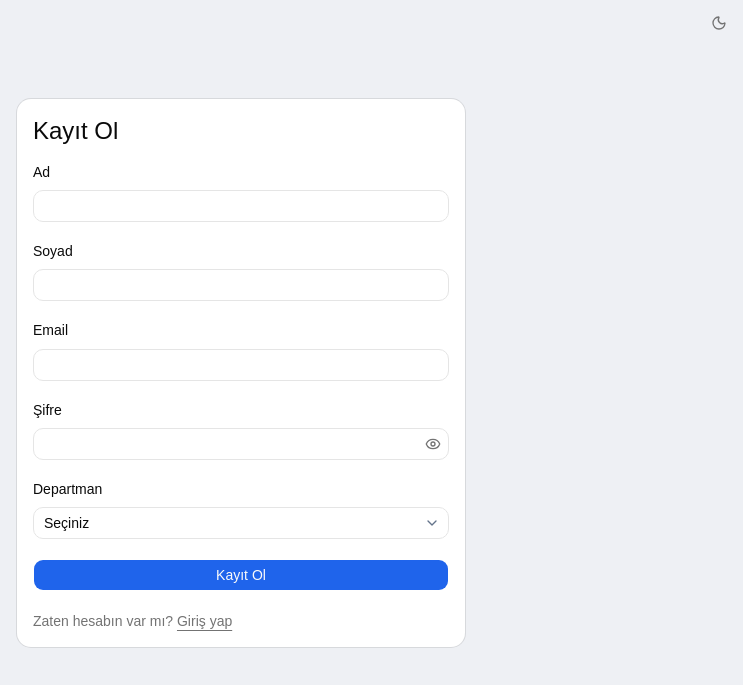
Test: Register page › shows the generic connection error on a network failure without crashing
Check: the dropdown labelled "Departman" is shown, box top-left (33, 507), bottom-right (449, 539)
Type "Taha" into the field labelled "Ad" at (241, 206), box top-left (33, 190), bottom-right (449, 222)
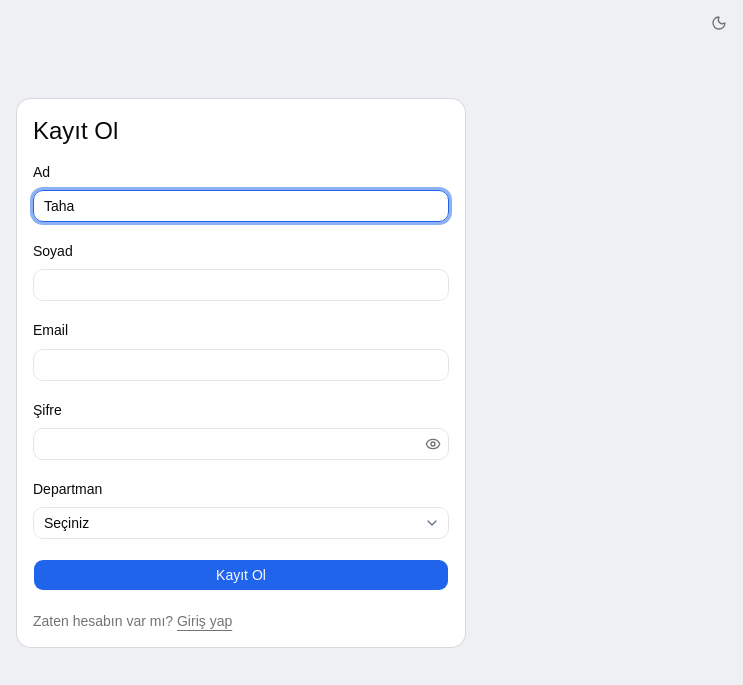
Type "Bugra" into the field labelled "Soyad" at (241, 285), box top-left (33, 269), bottom-right (449, 301)
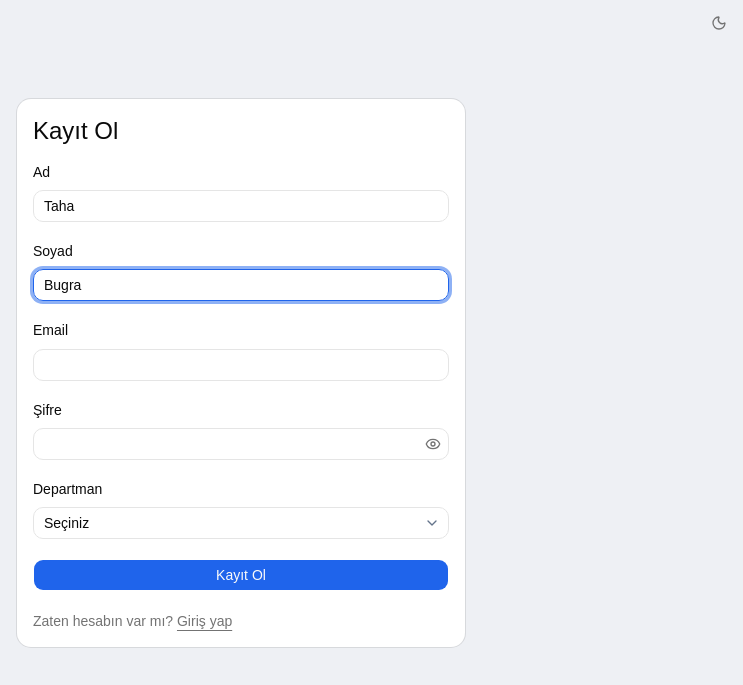
Type "taha@gmail.com" into the field labelled "Email" at (241, 365), box top-left (33, 349), bottom-right (449, 381)
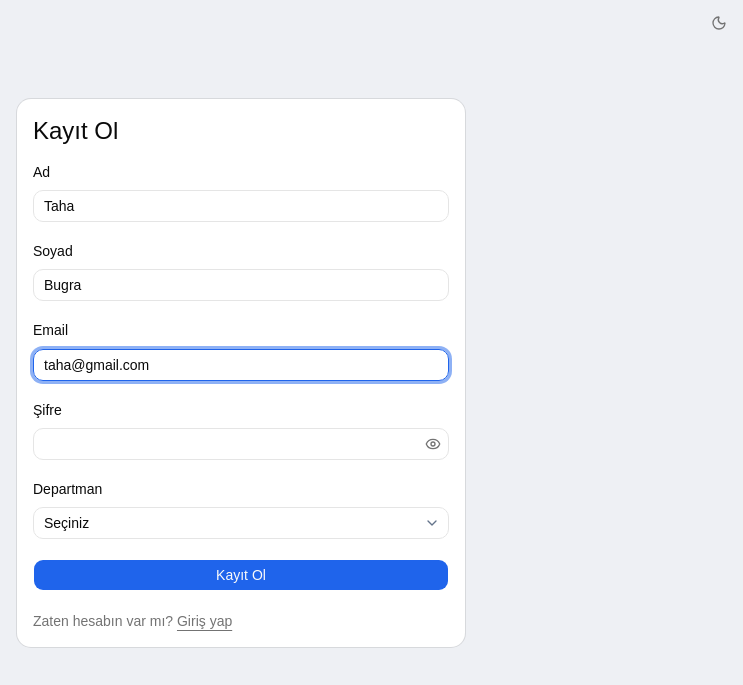
Type "sifre1234test" into the password field labelled "Şifre" at (241, 444), box top-left (33, 428), bottom-right (449, 460)
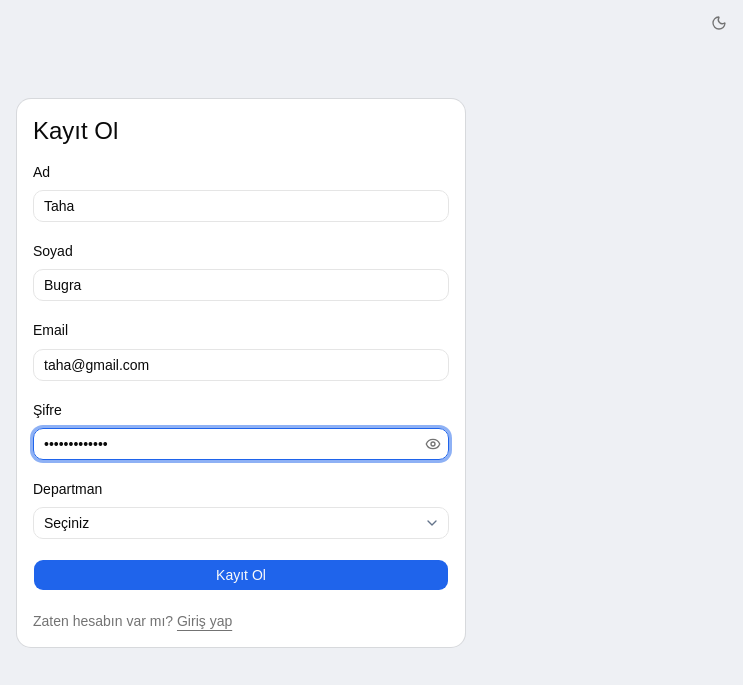
Select "IT" in the dropdown labelled "Departman" at (241, 523), box top-left (33, 507), bottom-right (449, 539)
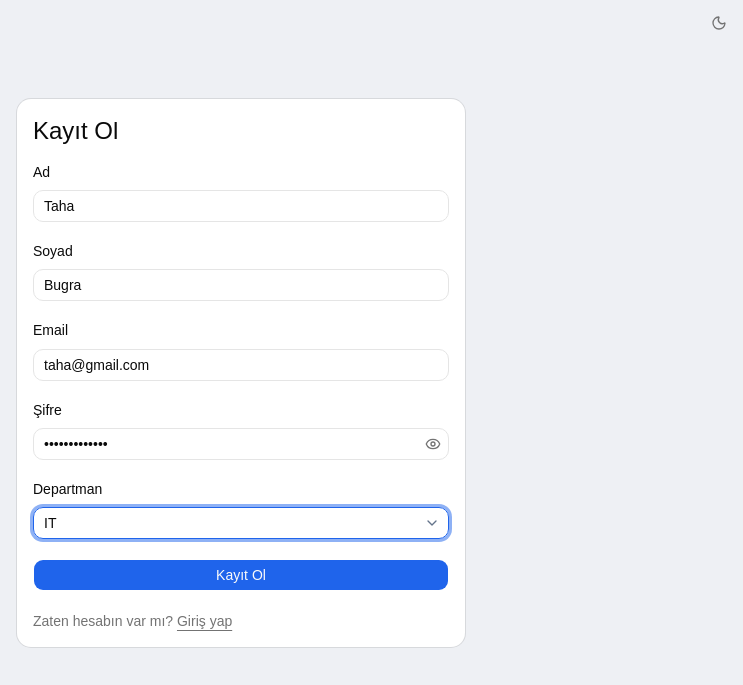
Click the button "Kayıt Ol" at (241, 575), box top-left (33, 559), bottom-right (449, 591)
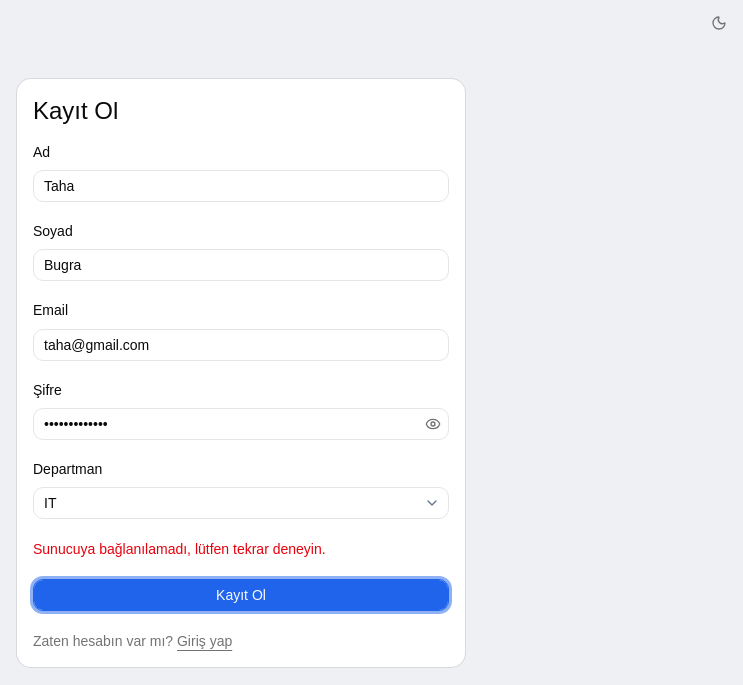
Check: the button "Kayıt Ol" is shown, box top-left (33, 579), bottom-right (449, 611)
Check: the text "Sunucuya bağlanılamadı, lütfen tekrar deneyin." is shown, box top-left (33, 541), bottom-right (326, 557)
